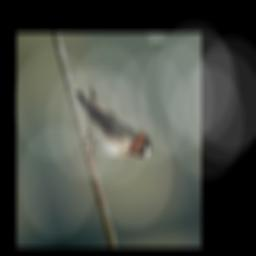Swallow: (69, 76, 158, 172)
